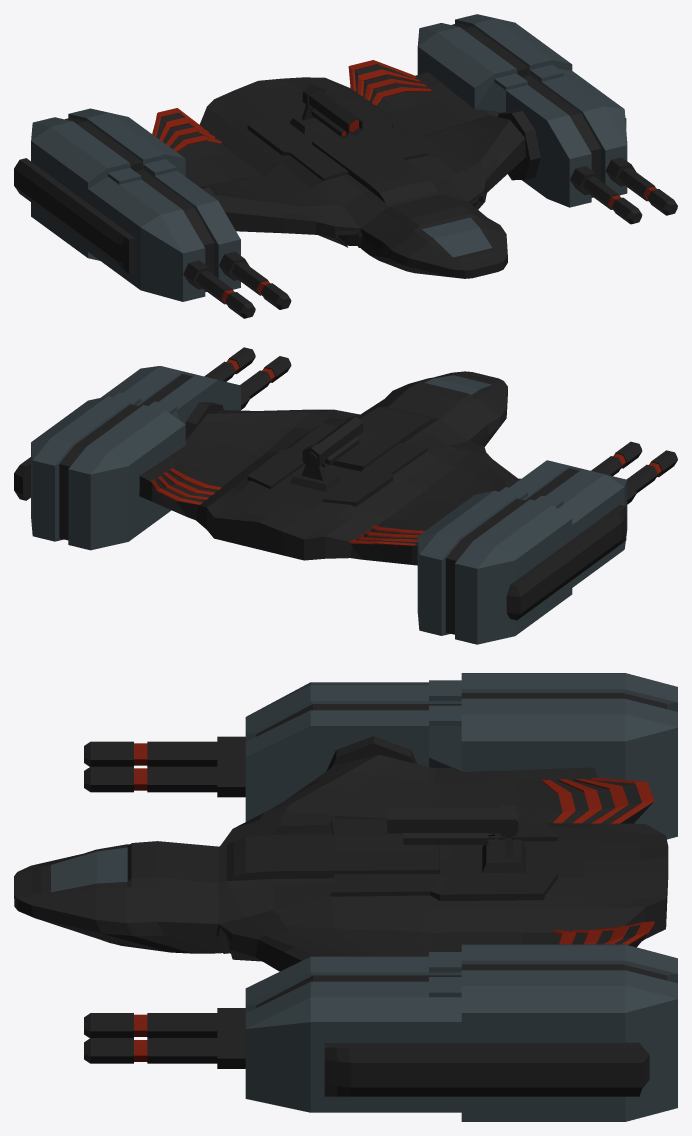
File: Bombardero.fbx
3 renders of one model, top to bottom at view 1: azimuth 30°, elevation 25°; view 2: azimuth 150°, elevation 25°; view 3: azimuth 270°, elevation 25°, orthographic. The views are drawn at different scales.
Parts seen in each view (by area): view 1: Bombardero Sin Mirror; view 2: Bombardero Sin Mirror; view 3: Bombardero Sin Mirror.
Part boxes in pixels (bbox=[...]): Bombardero Sin Mirror: bbox=[14, 14, 677, 318]; Bombardero Sin Mirror: bbox=[14, 347, 677, 644]; Bombardero Sin Mirror: bbox=[14, 673, 677, 1121].
Size of the model in its own units: 939 by 197 by 741.
Materials: 1 (1 with a texture image).
